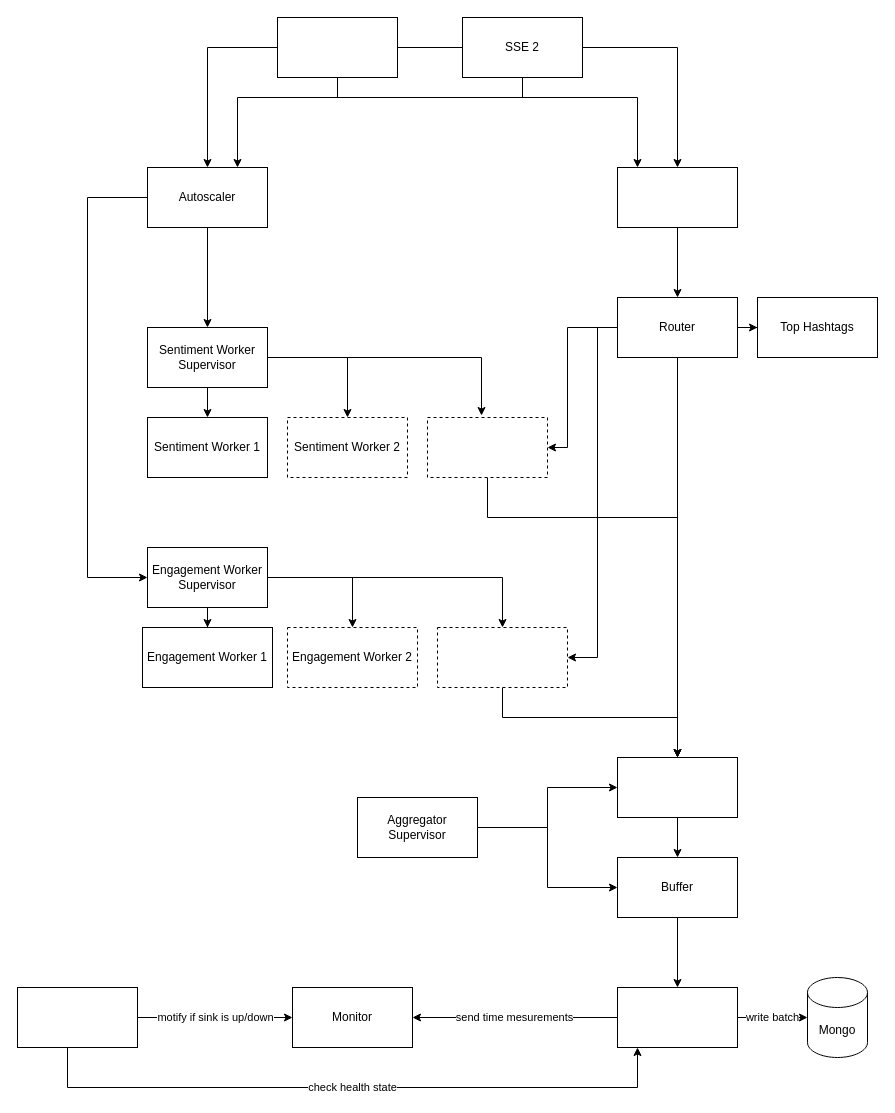
The diagram is 895 pixels wide and 1113 high, and some of its shapes have lost their labels. Each missing label, with the centre of its shape:
"Aggregator" belongs at [677,787].
"Engagement Worker n" belongs at [502,657].
"Health check" belongs at [77,1017].
"Sentiment Worker n" belongs at [487,447].
"Sink" belongs at [677,1017].
"SSE 1" belongs at [337,47].
"Tweet Middleware" belongs at [677,197].
